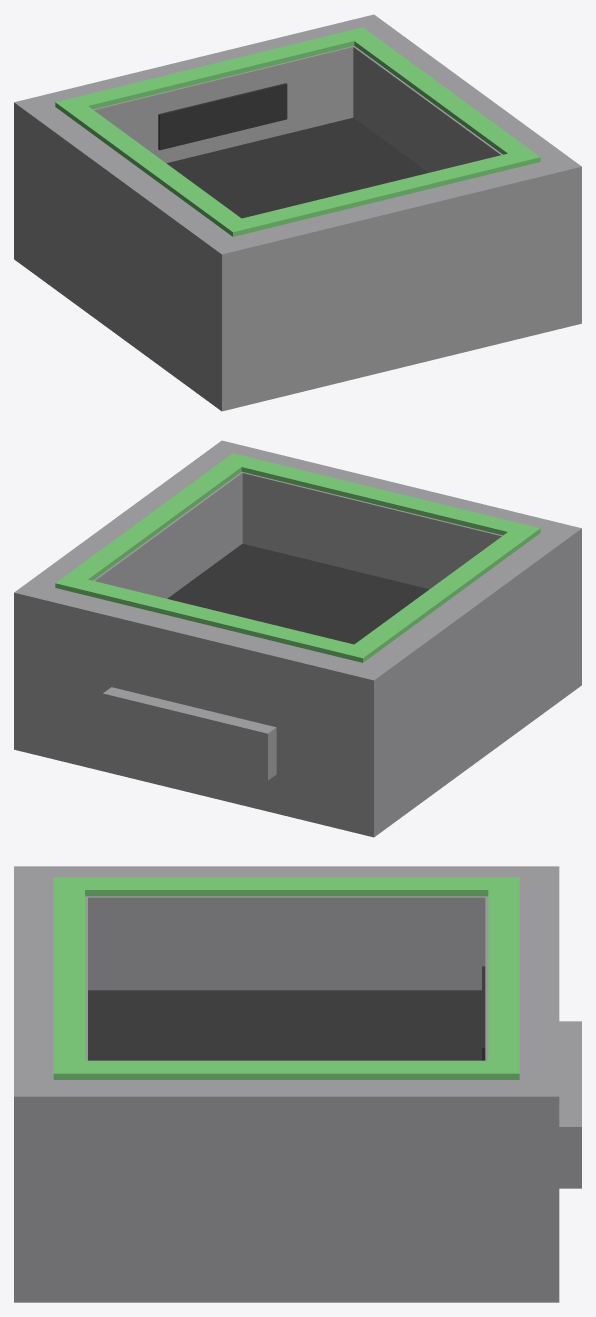
Rendered from vfef_hopper_output.obj.
The picture shows the model from 3 angles, top to bottom: view 1: azimuth 30°, elevation 25°; view 2: azimuth 150°, elevation 25°; view 3: azimuth 270°, elevation 25°; orthographic projection. The views are drawn at different scales.
Parts seen in each view (by area): view 1: vfef_hopper_output_1, vfef_hopper_output_3, vfef_hopper_output_0, vfef_hopper_output_4, vfef_hopper_output_2, vfef_hopper_output_6, vfef_hopper_output_5, vfef_hopper_output_9, vfef_hopper_output_8, vfef_hopper_output_7; view 2: vfef_hopper_output_0, vfef_hopper_output_3, vfef_hopper_output_1, vfef_hopper_output_4, vfef_hopper_output_2, vfef_hopper_output_10, vfef_hopper_output_5, vfef_hopper_output_6, vfef_hopper_output_8, vfef_hopper_output_7; view 3: vfef_hopper_output_2, vfef_hopper_output_3, vfef_hopper_output_4, vfef_hopper_output_0, vfef_hopper_output_1, vfef_hopper_output_7, vfef_hopper_output_8, vfef_hopper_output_5, vfef_hopper_output_6, vfef_hopper_output_10.
Part boxes in pixels (left/top/right/bottom): vfef_hopper_output_1: left=193, top=146, right=581, bottom=411; vfef_hopper_output_3: left=42, top=116, right=219, bottom=390; vfef_hopper_output_0: left=14, top=14, right=401, bottom=279; vfef_hopper_output_4: left=167, top=117, right=428, bottom=218; vfef_hopper_output_2: left=353, top=35, right=553, bottom=172; vfef_hopper_output_6: left=221, top=148, right=540, bottom=236; vfef_hopper_output_5: left=55, top=27, right=374, bottom=115; vfef_hopper_output_9: left=158, top=83, right=287, bottom=150; vfef_hopper_output_8: left=67, top=106, right=241, bottom=227; vfef_hopper_output_7: left=354, top=36, right=528, bottom=154; vfef_hopper_output_0: left=14, top=572, right=402, bottom=837; vfef_hopper_output_3: left=376, top=542, right=553, bottom=816; vfef_hopper_output_1: left=194, top=440, right=581, bottom=705; vfef_hopper_output_4: left=167, top=543, right=428, bottom=644; vfef_hopper_output_2: left=42, top=461, right=242, bottom=598; vfef_hopper_output_10: left=103, top=687, right=276, bottom=780; vfef_hopper_output_5: left=55, top=574, right=374, bottom=662; vfef_hopper_output_6: left=221, top=453, right=540, bottom=541; vfef_hopper_output_8: left=354, top=532, right=528, bottom=653; vfef_hopper_output_7: left=67, top=462, right=241, bottom=580; vfef_hopper_output_2: left=88, top=1080, right=485, bottom=1302; vfef_hopper_output_3: left=88, top=866, right=485, bottom=990; vfef_hopper_output_4: left=88, top=990, right=481, bottom=1060; vfef_hopper_output_0: left=485, top=866, right=559, bottom=1302; vfef_hopper_output_1: left=14, top=866, right=87, bottom=1302; vfef_hopper_output_7: left=85, top=1060, right=488, bottom=1079; vfef_hopper_output_8: left=85, top=877, right=488, bottom=896; vfef_hopper_output_5: left=488, top=877, right=519, bottom=1079; vfef_hopper_output_6: left=53, top=877, right=84, bottom=1079; vfef_hopper_output_10: left=559, top=1021, right=581, bottom=1188.
Size of the model in its own units: 0.96 by 0.412 by 1.
